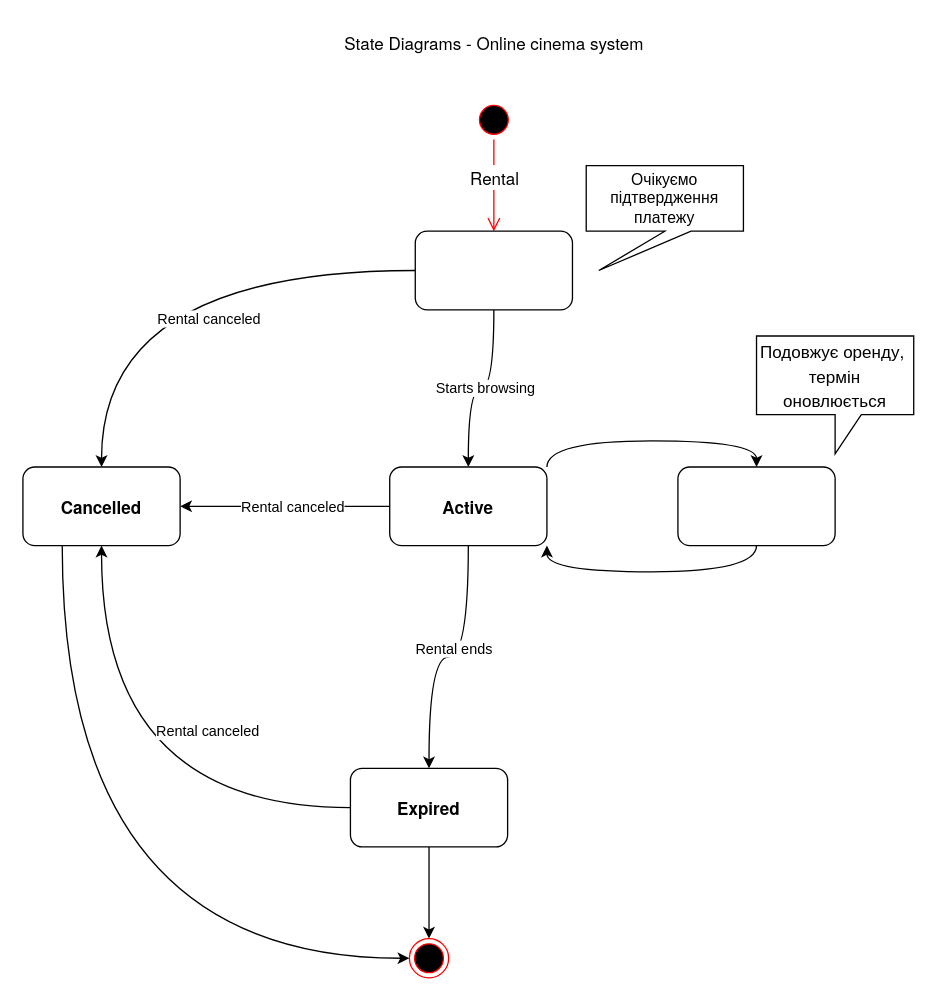
Some shapes in this 937 by 1001 pixel diagram are drawn without their labels. Each missing label, with the box of its shape:
Created: (414, 230, 572, 310)
Extended: (677, 466, 835, 546)
